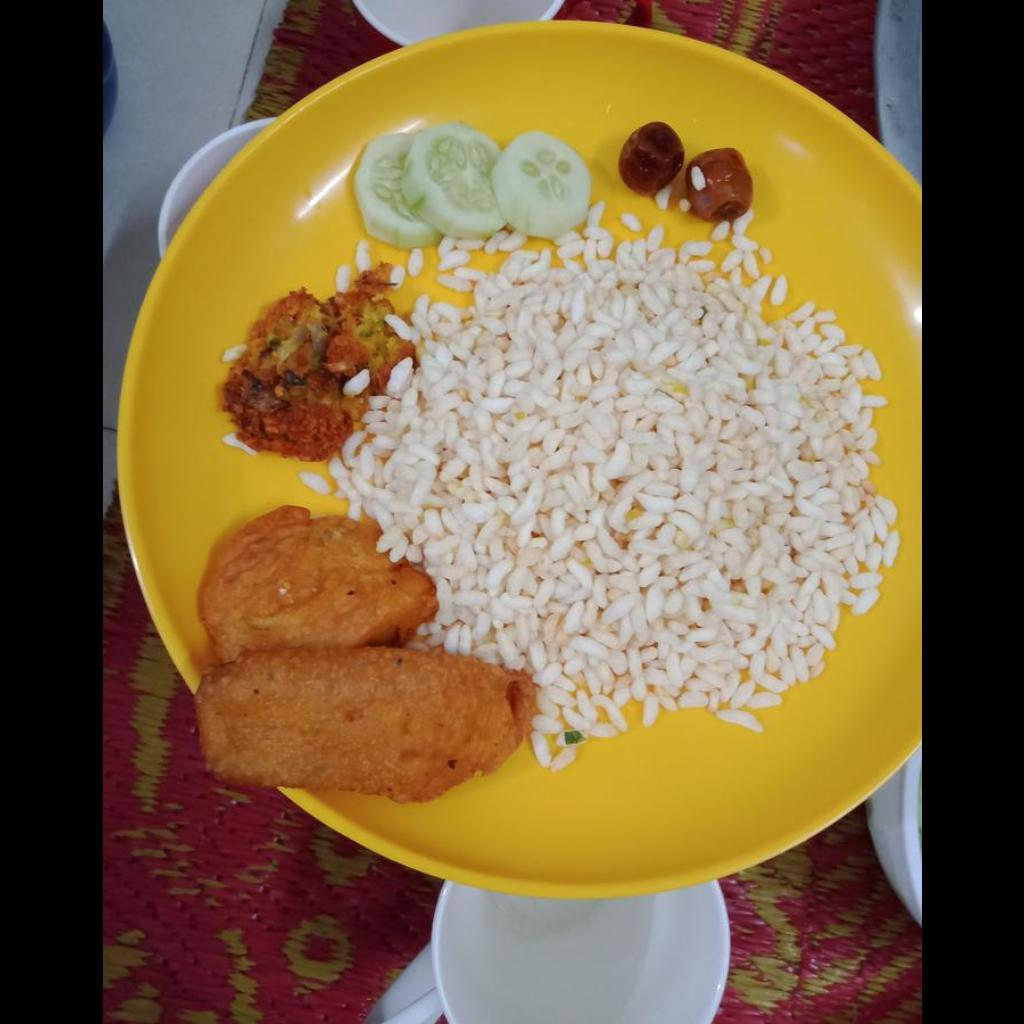beguni: (195, 650, 518, 794), (220, 264, 416, 461)
chop-alu: (200, 514, 440, 657)
cucumber: (345, 123, 585, 242)
dates: (619, 122, 742, 222)
puffed-rice: (331, 223, 897, 767)
